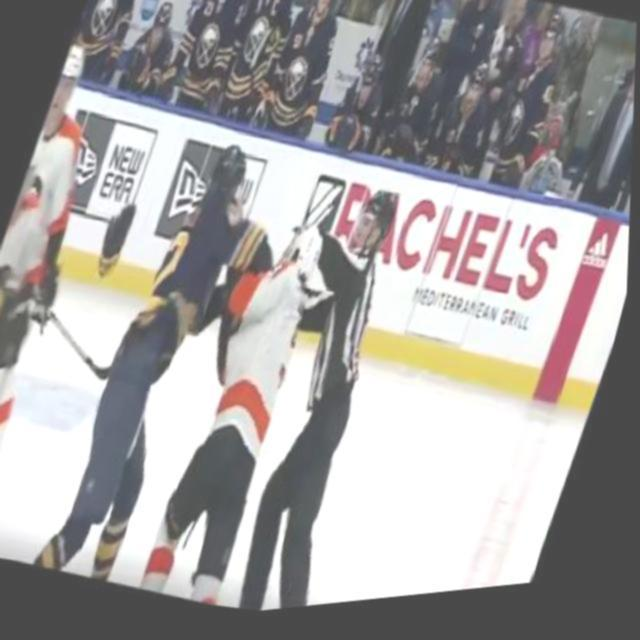fight: (40, 115, 369, 632)
